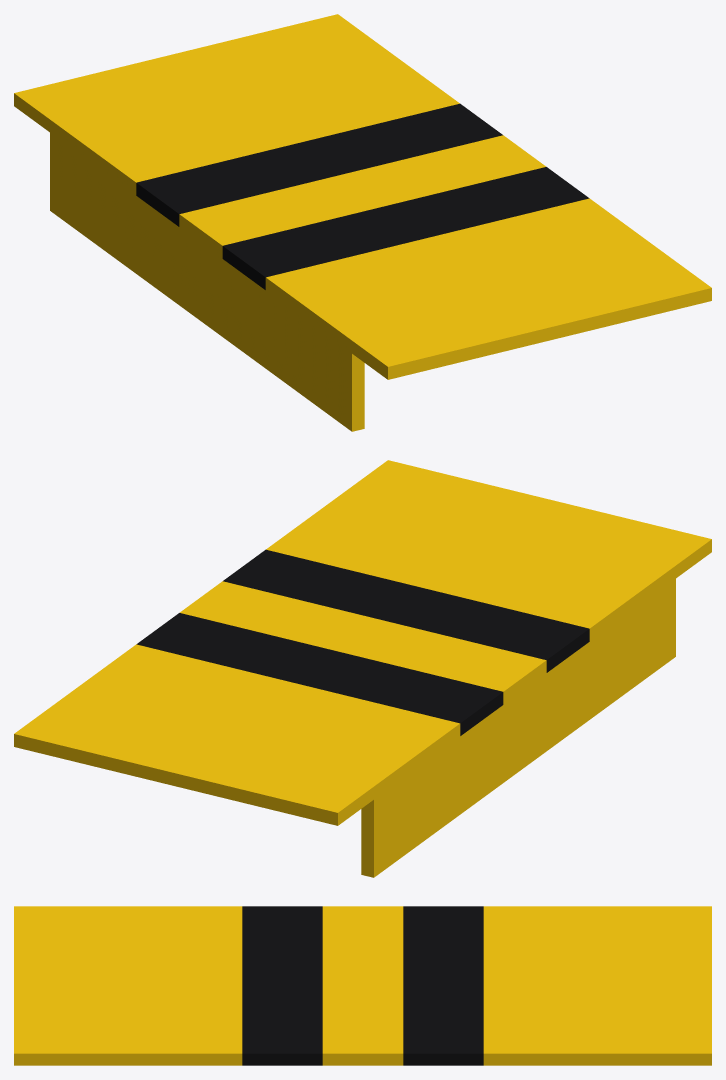
The model's file is sports_car_boot_lid.glb.
3 renders of one model, top to bottom at view 1: azimuth 30°, elevation 25°; view 2: azimuth 150°, elevation 25°; view 3: azimuth 270°, elevation 25°, orthographic. The views are drawn at different scales.
Parts seen in each view (by area): view 1: body:compound; view 2: body:compound; view 3: body:compound.
Part boxes in pixels (bbox=[...]): body:compound: bbox=[14, 14, 711, 431]; body:compound: bbox=[14, 460, 711, 877]; body:compound: bbox=[14, 906, 711, 1065].
Size of the model in its own units: 0.8125 by 0.2188 by 1.62.
